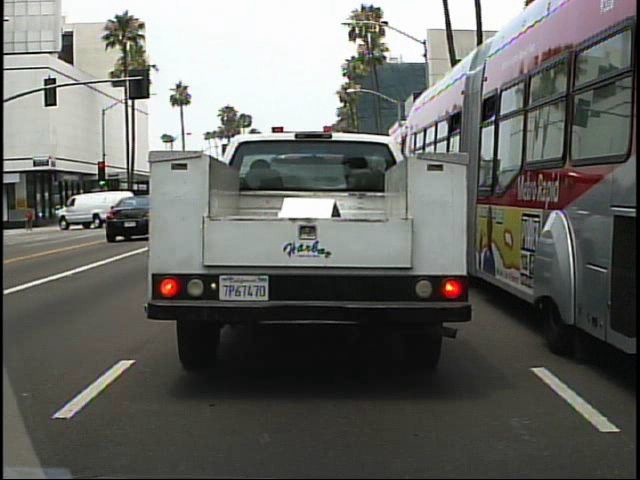person: (24, 205, 37, 235)
